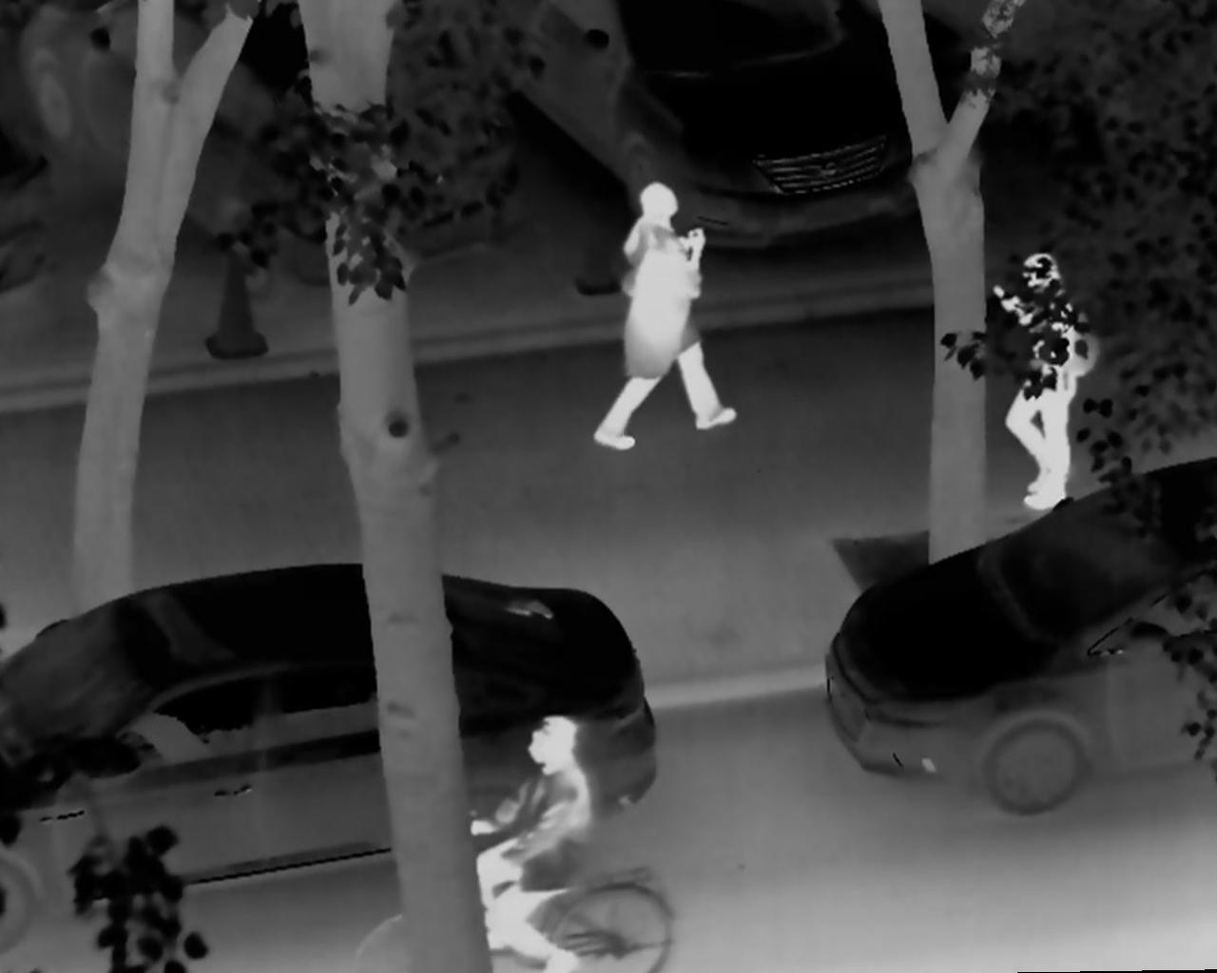person: (587, 183, 742, 456), (464, 710, 594, 973), (987, 245, 1096, 511)
